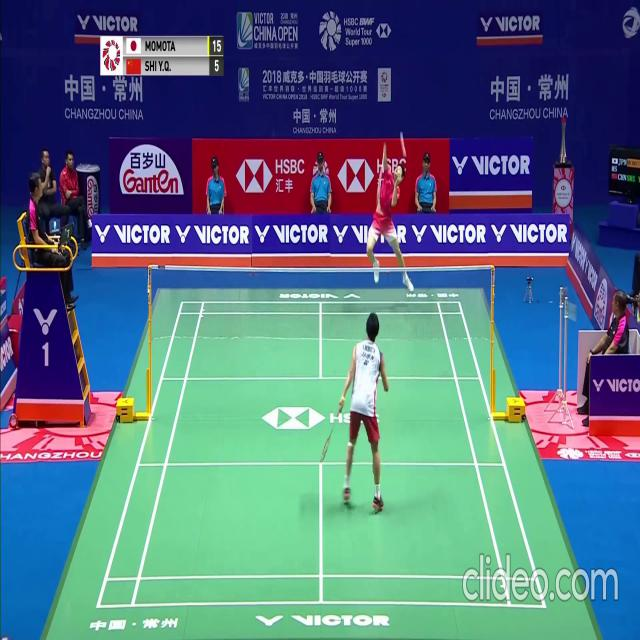Shuttlecock: (401, 150, 406, 157)
